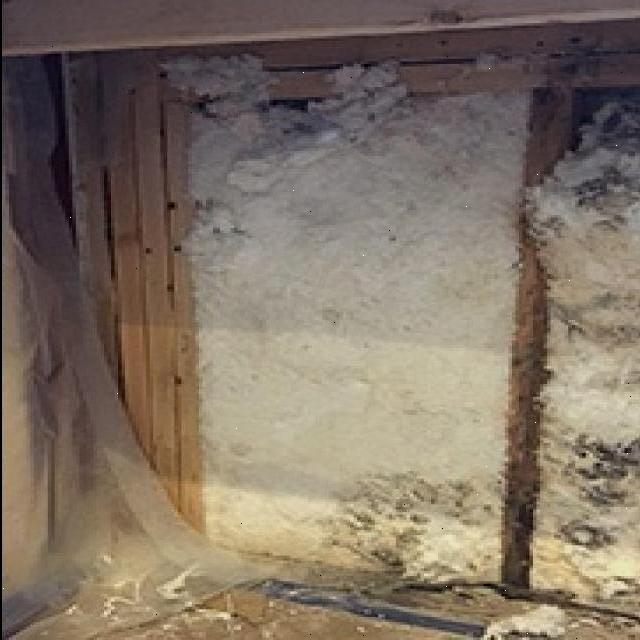dampens: (180, 29, 539, 640), (6, 0, 300, 640), (453, 0, 640, 640)
